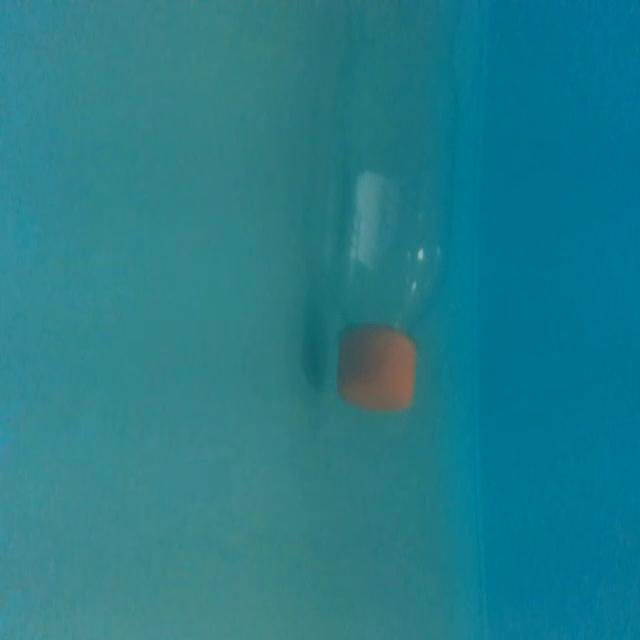plastic bottle: (327, 0, 456, 423)
